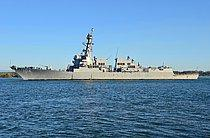MIL_Ship: (9, 27, 201, 80)
